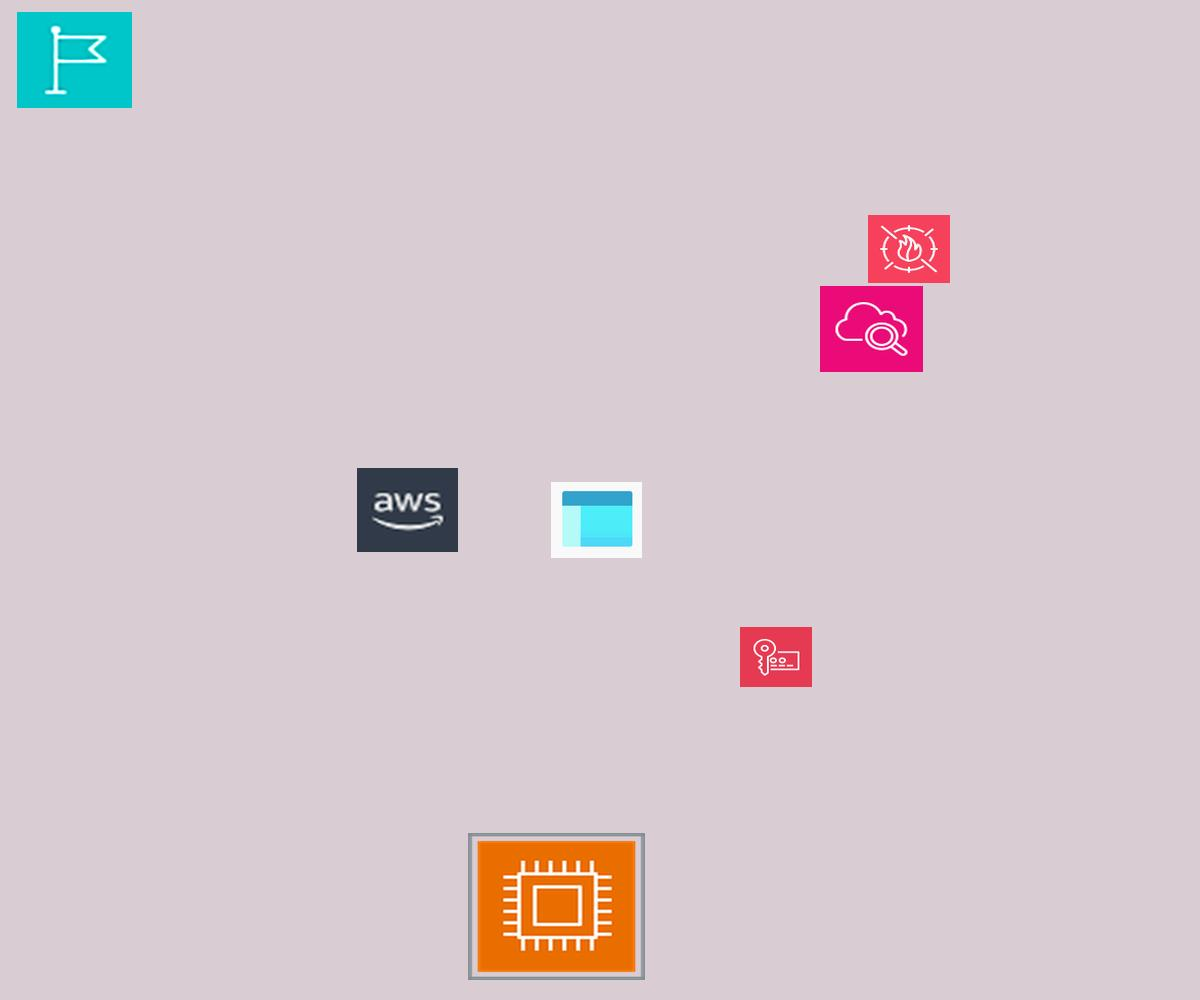AWS-Category_Compute: (468, 833, 645, 980)
AWS-Cloud-logo: (357, 468, 458, 552)
AWS-CloudWatch: (820, 286, 923, 372)
AWS-Key-Management-Service: (740, 627, 812, 687)
AWS-Region: (17, 12, 132, 108)
AWS-WAF: (868, 215, 950, 283)
Azure_management-portal: (551, 482, 642, 558)
